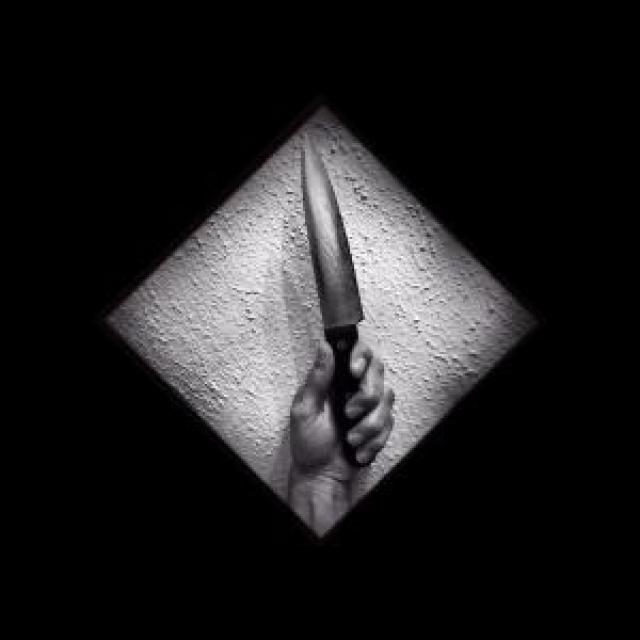knife: (297, 134, 372, 478)
